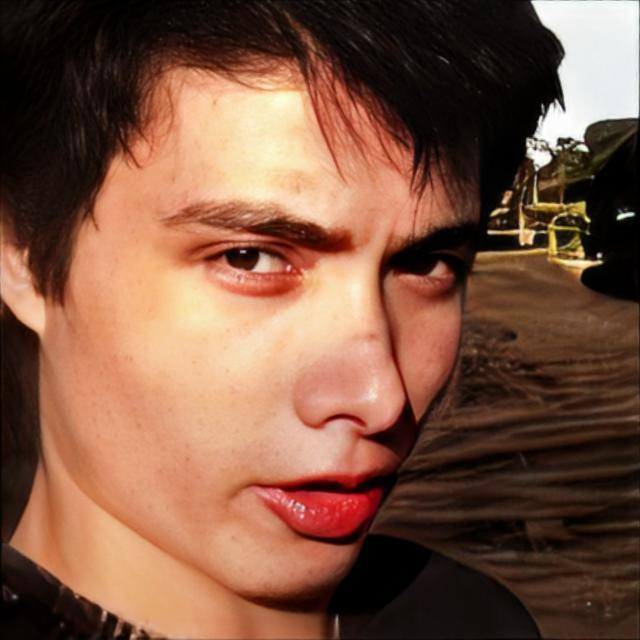anger: (56, 41, 479, 610)
